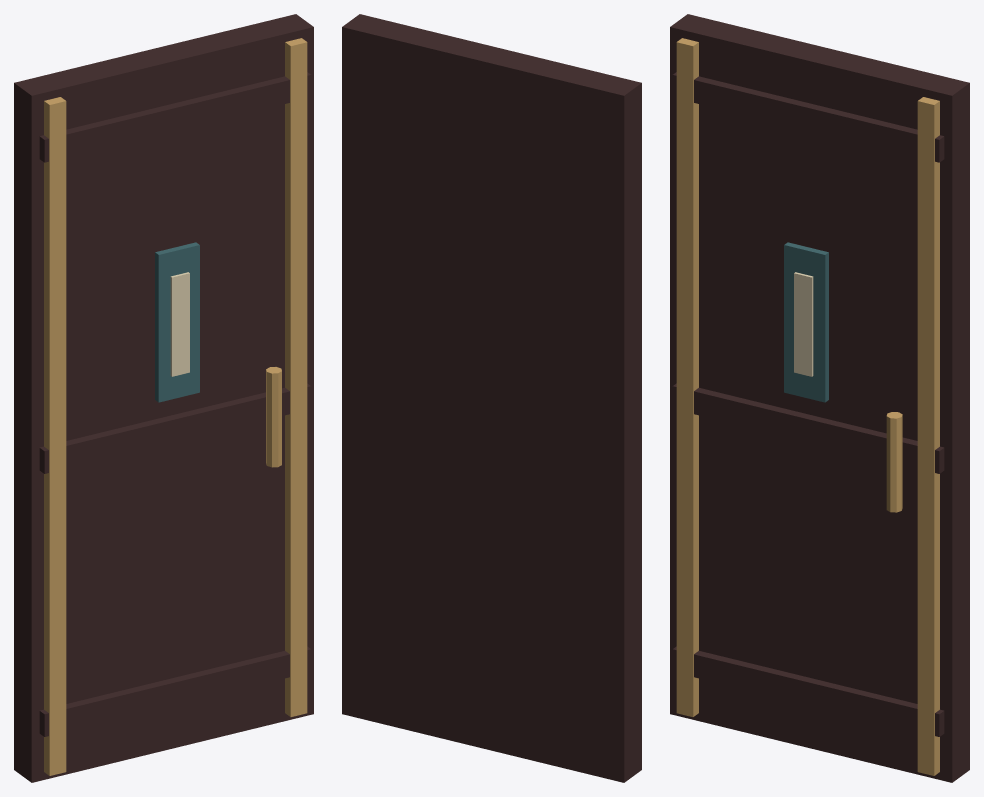
The model's file is archive_gate_left.glb.
3 renders of one model, left to right at view 1: azimuth 30°, elevation 25°; view 2: azimuth 150°, elevation 25°; view 3: azimuth 330°, elevation 25°, orthographic.
Visible parts, largest first — view 1: archive_gate_left_Timber, archive_gate_left_Bronze, archive_gate_left_Fabric, archive_gate_left_Plaster; view 2: archive_gate_left_Timber; view 3: archive_gate_left_Timber, archive_gate_left_Bronze, archive_gate_left_Fabric, archive_gate_left_Plaster.
Boxes of the visible parts, <box> form: archive_gate_left_Timber: <box>14,14,313,782</box>; archive_gate_left_Bronze: <box>44,38,307,775</box>; archive_gate_left_Fabric: <box>155,242,199,402</box>; archive_gate_left_Plaster: <box>170,272,189,376</box>; archive_gate_left_Timber: <box>342,14,641,782</box>; archive_gate_left_Timber: <box>670,14,969,782</box>; archive_gate_left_Bronze: <box>676,38,939,775</box>; archive_gate_left_Fabric: <box>784,242,828,402</box>; archive_gate_left_Plaster: <box>794,272,813,376</box>.
Size of the model in its own units: 1.1 by 2.56 by 0.208.
